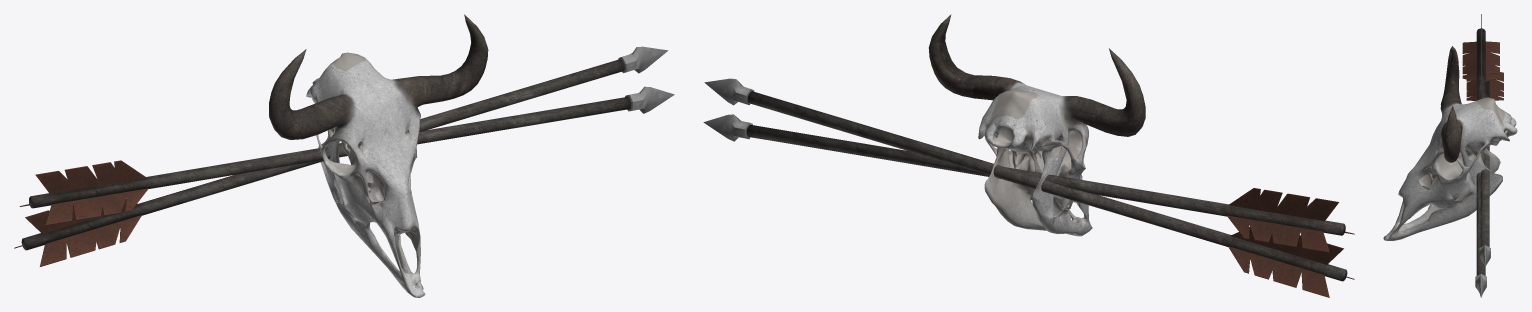
Rendered from palka_12.glb.
3 renders of one model, left to right at view 1: azimuth 30°, elevation 25°; view 2: azimuth 150°, elevation 25°; view 3: azimuth 270°, elevation 25°, orthographic. The views are drawn at different scales.
Parts seen in each view (by area): view 1: palka_12; view 2: palka_12; view 3: palka_12.
Boxes of the visible parts, <box> form: palka_12: <box>14,14,674,297</box>; palka_12: <box>703,14,1354,297</box>; palka_12: <box>1383,14,1517,297</box>.
Bounding box in the file's own units: 84.08 × 28.95 × 20.61.
4 materials, 4 textured.
